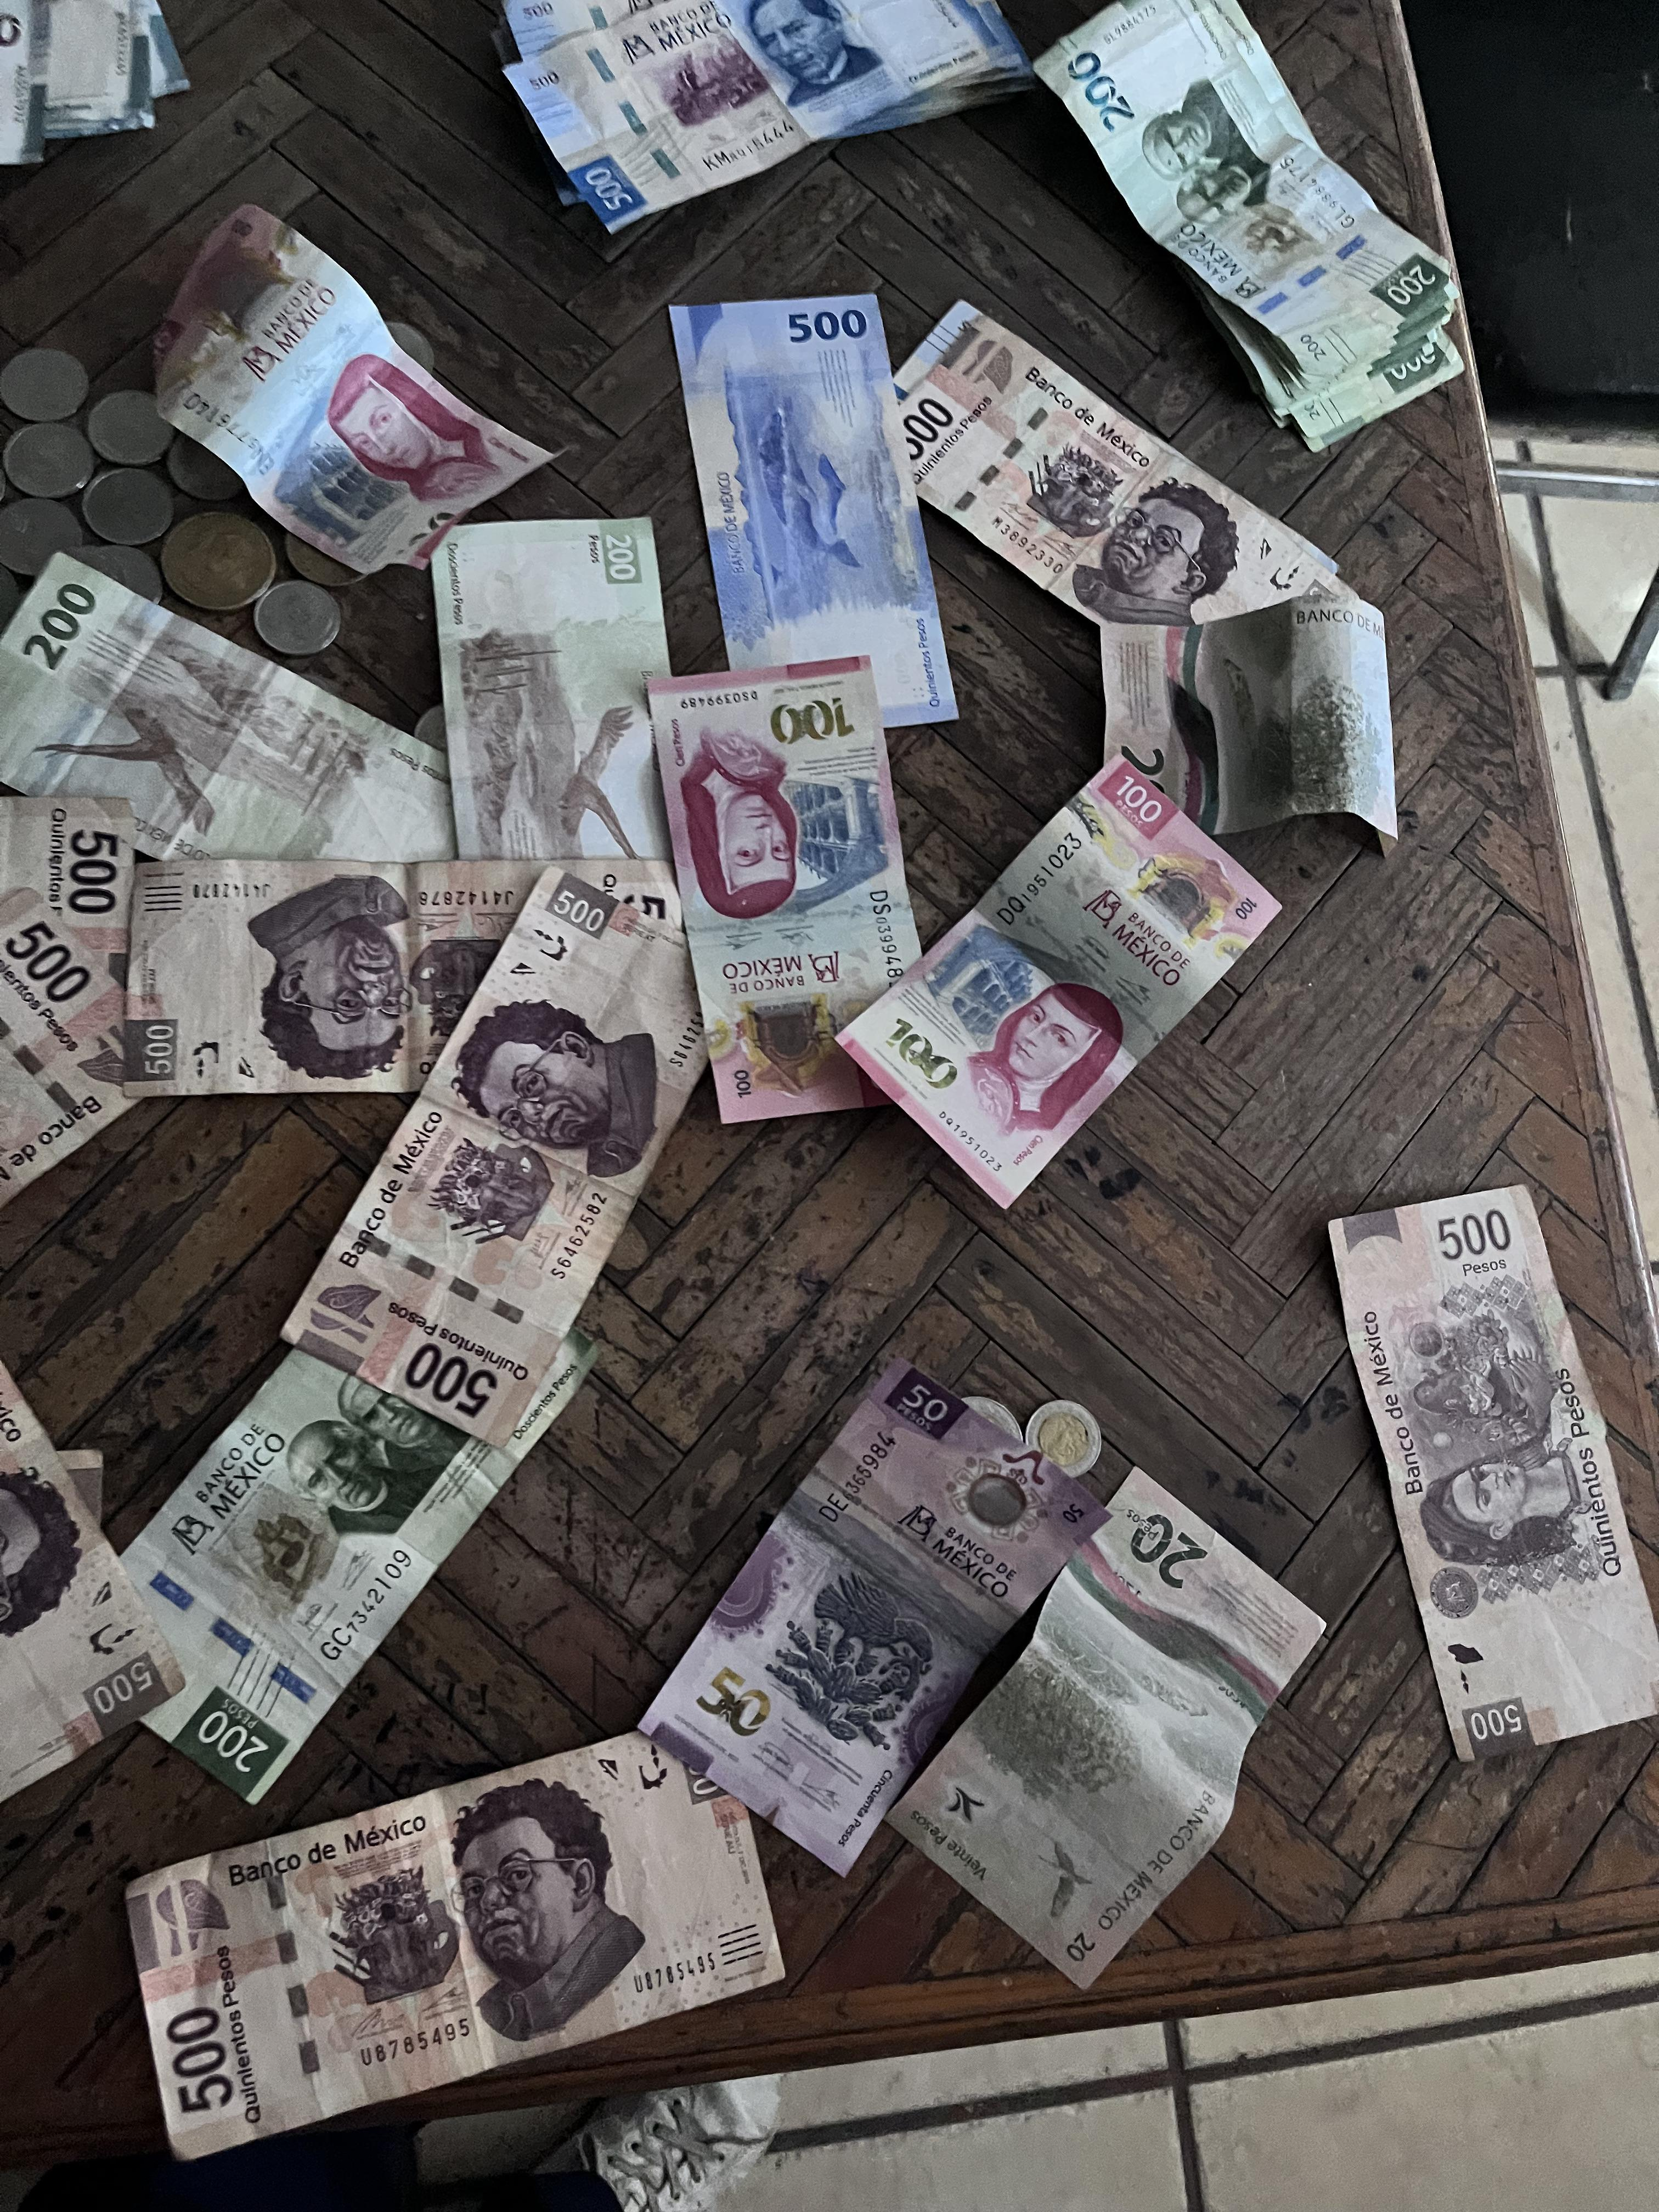100: (823, 732, 1295, 1205), (647, 624, 1019, 1143), (131, 164, 563, 597)
20: (887, 1426, 1290, 2038), (1056, 583, 1485, 862)
200: (37, 1275, 612, 1808), (0, 540, 486, 928), (1011, 0, 1457, 416), (411, 477, 739, 887)
50: (680, 1339, 1101, 1902)
500: (106, 1712, 800, 2127), (293, 855, 730, 1439), (861, 263, 1398, 709), (1304, 1150, 1659, 1799), (105, 834, 784, 1130), (0, 1308, 190, 1794), (0, 796, 197, 1251)
500 nuevo: (655, 287, 981, 747), (505, 0, 1037, 242)
